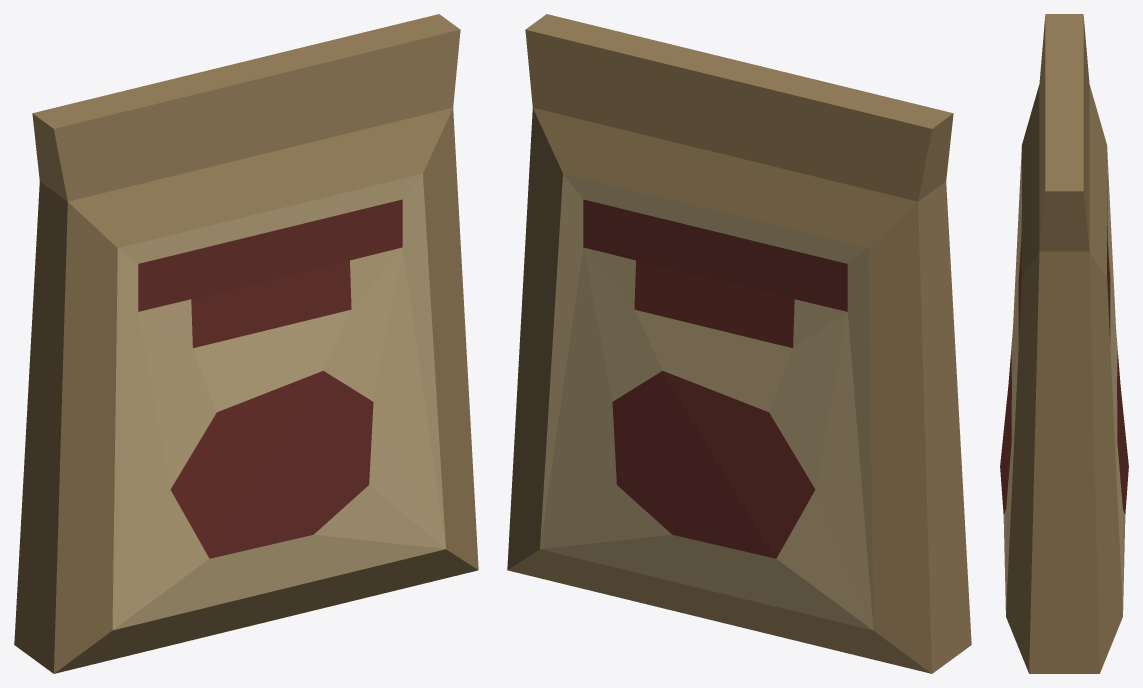
Rendered from SM_Prop_SeedPacket_01.fbx.
The picture shows the model from 3 angles, left to right: view 1: azimuth 30°, elevation 25°; view 2: azimuth 150°, elevation 25°; view 3: azimuth 270°, elevation 25°; orthographic projection. The views are drawn at different scales.
Parts seen in each view (by area): view 1: SM_Prop_SeedPacket_01; view 2: SM_Prop_SeedPacket_01; view 3: SM_Prop_SeedPacket_01.
Part boxes in pixels (bbox=[...]): SM_Prop_SeedPacket_01: bbox=[14, 14, 478, 673]; SM_Prop_SeedPacket_01: bbox=[507, 14, 971, 673]; SM_Prop_SeedPacket_01: bbox=[1000, 14, 1128, 673].
Size of the model in its own units: 22.88 by 27.59 by 6.73.
